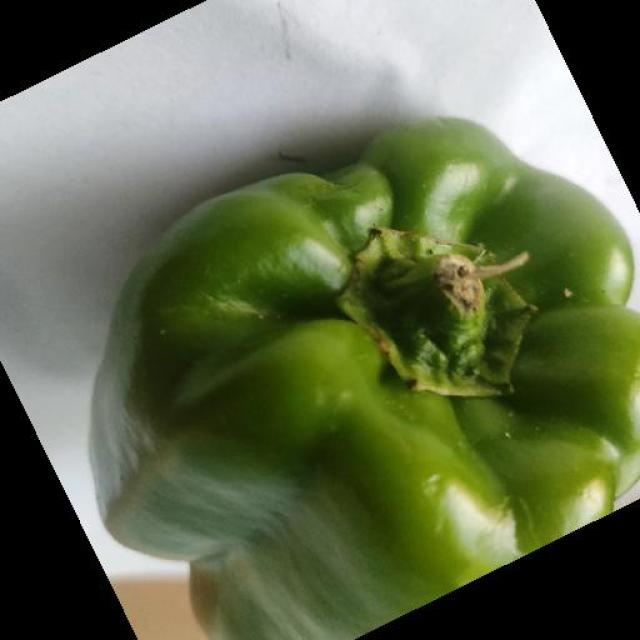Fresh_Capsicum: (104, 152, 640, 640)
